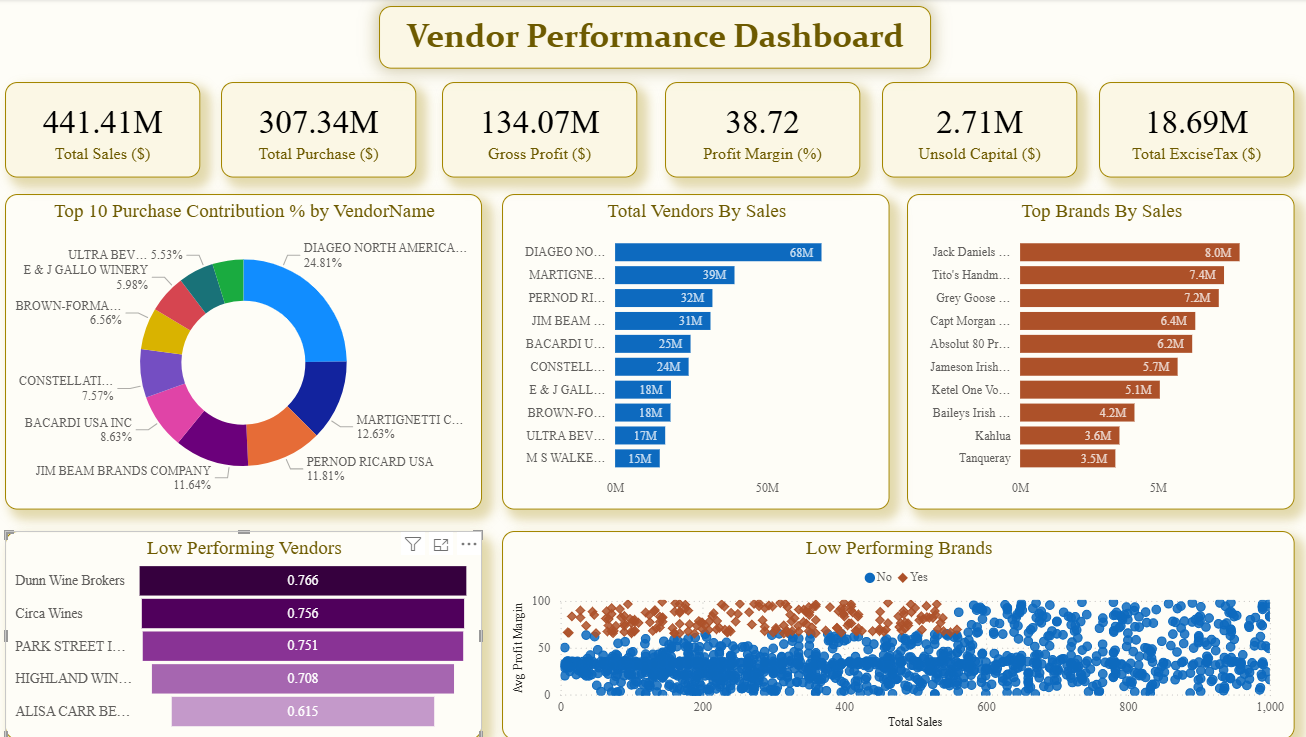

This screenshot's page, from the dashboard's own definition file:
{"tool":"powerbi","page":{"name":"Vendor VM","canvas":[1280,720],"ordinal":0},"visuals":[{"type":"textbox","box":[371.8,7.1,537.5,60.6],"z":0},{"type":"card","fields":{"Values":["vendor_sales_summary.Total Sales"]},"box":[8.1,80.8,189.9,92.9],"z":1000},{"type":"card","fields":{"Values":["vendor_sales_summary.Total Purchase"]},"box":[218.2,80.8,189.9,92.9],"z":2000},{"type":"card","fields":{"Values":["vendor_sales_summary.Gross Profit"]},"box":[432.4,80.8,189.9,92.9],"z":3000},{"type":"card","fields":{"Values":["Avg(vendor_sales_summary.ProfitMargin)"]},"box":[649.6,80.8,189.9,92.9],"z":4000},{"type":"card","fields":{"Values":["Sum(vendor_sales_summary.UnsoldCapital)"]},"box":[860.7,80.8,189.9,92.9],"z":5000},{"type":"donutChart","title":"Top 10 Purchase Contribution % by VendorName","fields":{"Category":["PurchaseContribution.VendorName"],"Y":["Sum(PurchaseContribution.PurchaseContribution%)"]},"box":[8.1,189.9,463.7,307.1],"z":6000},{"type":"card","fields":{"Values":["Sum(vendor_sales_summary.TotalExciseTax)"]},"box":[1071.9,80.8,189.9,92.9],"z":7000},{"type":"barChart","title":"Total Vendors By Sales","fields":{"Category":["vendor_sales_summary.VendorName"],"Y":["Sum(vendor_sales_summary.TotalSalesDollars)"]},"box":[491,189.9,376.8,307.1],"z":8000},{"type":"barChart","title":"Top Brands By Sales","fields":{"Y":["Sum(vendor_sales_summary.TotalSalesDollars)"],"Category":["vendor_sales_summary.Description"]},"box":[885,189.9,376.8,307.1],"z":9000},{"type":"funnel","title":"Low Performing Vendors","fields":{"Category":["LowTurnoverVendor.VendorName"],"Y":["Avg(LowTurnoverVendor.AvgStockTurnover)"]},"box":[8.1,517.3,463.7,203.1],"z":10000},{"type":"scatterChart","title":"Low Performing Brands","fields":{"Category":["BrandPerformance.Description"],"X":["Sum(BrandPerformance.TotalSales)"],"Y":["Sum(BrandPerformance.AvgProfitMargin)"],"Series":["BrandPerformance.TargetBrand"]},"box":[491,517.3,770.8,203.1],"z":11000}]}

Visuals, with their boxes in screenshot pixels (x1, y1, x2, y2), scaled from the page's 1280x720 canvas onto the 1306x737 screenshot:
textbox: locate(379, 7, 928, 69)
card - vendor_sales_summary.Total Sales: locate(8, 83, 202, 178)
card - vendor_sales_summary.Total Purchase: locate(223, 83, 416, 178)
card - vendor_sales_summary.Gross Profit: locate(441, 83, 635, 178)
card - Avg(vendor_sales_summary.ProfitMargin): locate(663, 83, 857, 178)
card - Sum(vendor_sales_summary.UnsoldCapital): locate(878, 83, 1072, 178)
"Top 10 Purchase Contribution % by VendorName" donutChart: locate(8, 194, 481, 509)
card - Sum(vendor_sales_summary.TotalExciseTax): locate(1094, 83, 1287, 178)
"Total Vendors By Sales" barChart: locate(501, 194, 885, 509)
"Top Brands By Sales" barChart: locate(903, 194, 1287, 509)
"Low Performing Vendors" funnel: locate(8, 530, 481, 736)
"Low Performing Brands" scatterChart: locate(501, 530, 1287, 736)
